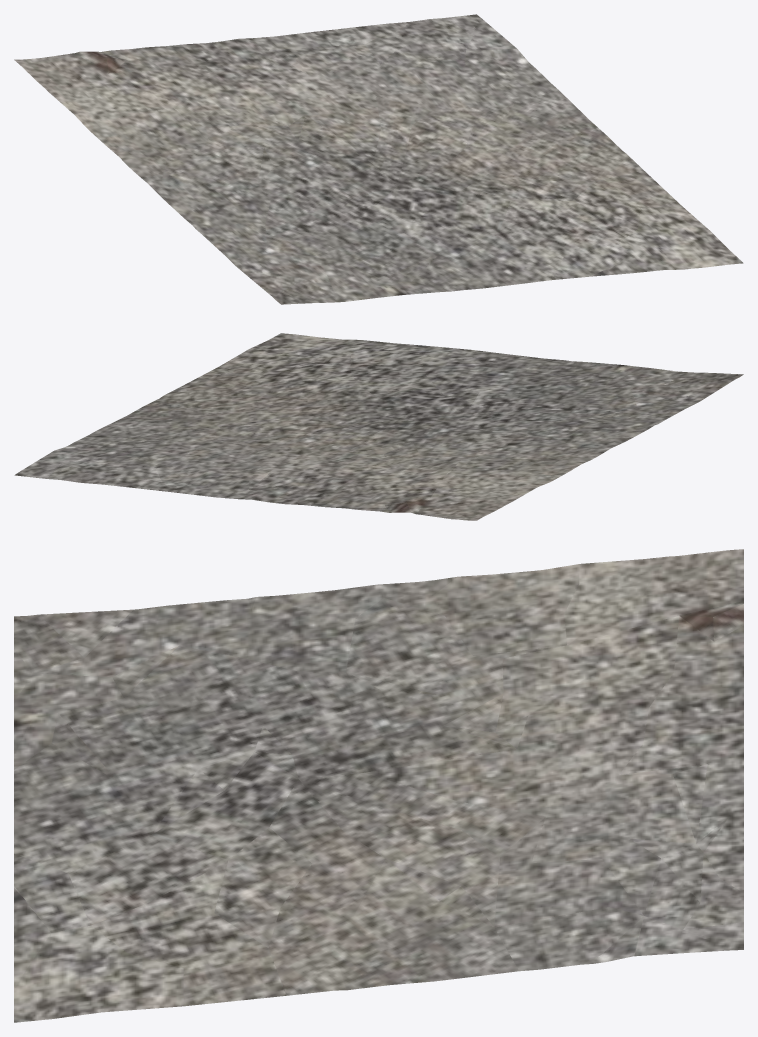
3 renders of one model, top to bottom at view 1: azimuth 30°, elevation 25°; view 2: azimuth 150°, elevation 25°; view 3: azimuth 270°, elevation 25°, orthographic. The views are drawn at different scales.
Bounding box in the file's own units: 0.8374 × 0.209 × 0.8374.
2 materials, 2 textured.
